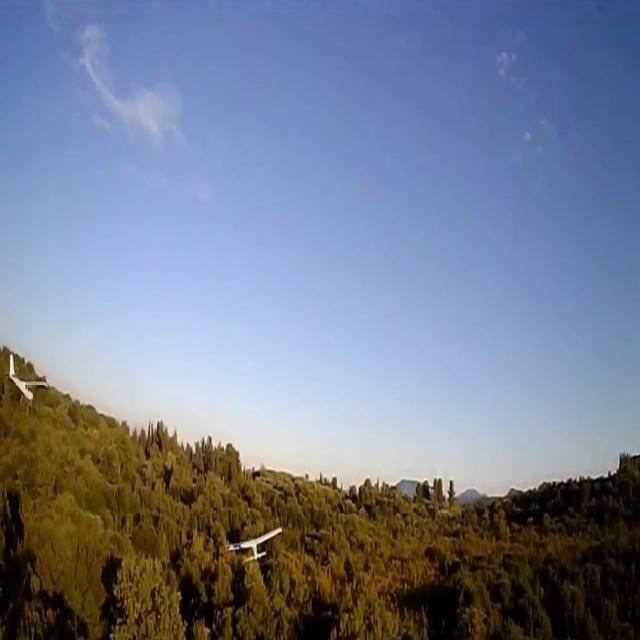iha: (8, 346, 50, 403), (226, 525, 283, 563)
